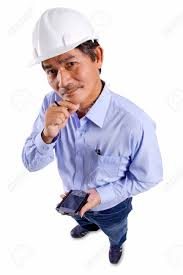Person_wearing_helmet: (19, 1, 111, 79)
